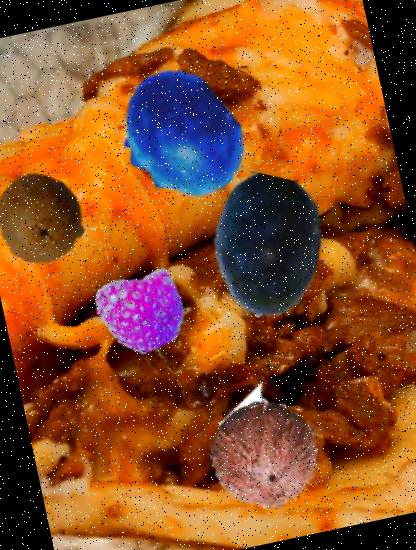Blueberry: (182, 163, 350, 330)
Cocos: (198, 388, 331, 522)
Huckleberry: (101, 57, 260, 216)
Kiwi: (0, 164, 93, 273)
Raspberry: (90, 260, 194, 364)
